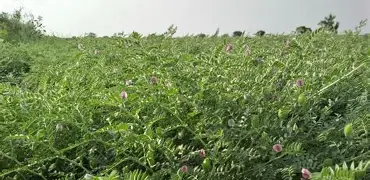crops: (0, 11, 363, 175), (42, 40, 142, 97), (286, 30, 370, 86), (0, 3, 53, 79), (305, 100, 369, 162), (131, 33, 229, 71), (110, 125, 176, 177), (201, 95, 258, 144), (316, 12, 339, 32), (150, 22, 180, 37), (352, 17, 367, 34)
